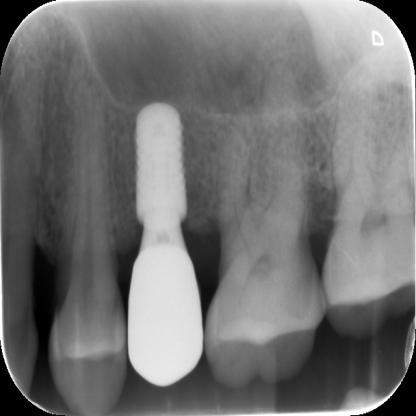ITI: (135, 96, 191, 229)
